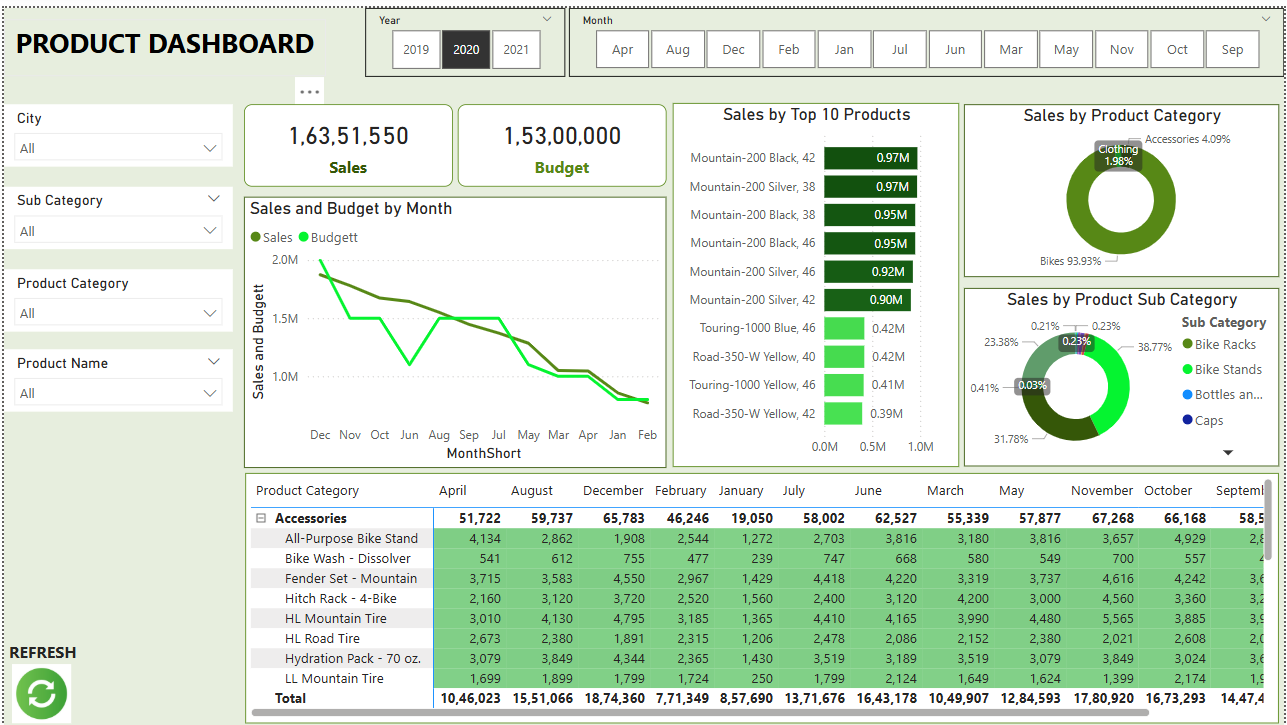

Layout of this report page (visuals, bound fields, positions):
{"tool":"powerbi","page":{"name":"PRODUCTS","canvas":[1280,720],"ordinal":1},"visuals":[{"type":"textbox","box":[0,11.2,321.2,57.5],"z":0},{"type":"slicer","fields":{"Values":["DIM_Calendar.Year"]},"box":[361.2,0,200,68.8],"z":1000},{"type":"slicer","fields":{"Values":["DIM_Calendar.MonthShort"]},"box":[564.9,0,715.4,68.5],"z":2000},{"type":"slicer","fields":{"Values":["DIM_Customers.Customer City"]},"box":[0,96.8,228.7,62.4],"z":3000},{"type":"slicer","fields":{"Values":["DIM_Products.Sub Category"]},"box":[0,178.8,228.7,62.4],"z":4000},{"type":"slicer","fields":{"Values":["DIM_Products.Product Category"]},"box":[0,260.7,228.7,62.4],"z":5000},{"type":"slicer","fields":{"Values":["DIM_Products.Product Name"]},"box":[0,341.4,228.7,62.4],"z":6000},{"type":"donutChart","fields":{"Y":["Metrics.Sales"],"Series":["DIM_Products.Product Category"]},"box":[960,96.2,315,172.5],"z":7000},{"type":"lineChart","title":"Sales and Budget by Month","fields":{"Category":["DIM_Calendar.MonthShort"],"Y":["Metrics.Sales","Metrics.Budgett"]},"box":[240,188.8,422.5,271.2],"z":8000},{"type":"barChart","title":"Sales by Top 10 Products","fields":{"Y":["Metrics.Sales"],"Category":["DIM_Products.Product Name"]},"box":[668.8,95,286.2,363.8],"z":9000},{"type":"image","box":[0,651.2,75,68.8],"z":10000},{"type":"textbox","box":[0,627.5,228.8,32.5],"z":11000},{"type":"card","fields":{"Values":["Metrics.Sales"]},"box":[240,96.2,208.8,82.5],"z":12000},{"type":"card","fields":{"Values":["Metrics.Budgett"]},"box":[453.8,96.2,208.8,82.5],"z":13000},{"type":"donutChart","title":"Sales by Product Sub Category","fields":{"Y":["Metrics.Sales"],"Series":["DIM_Products.Sub Category"]},"box":[960,280,315,178.8],"z":14000},{"type":"pivotTable","fields":{"Rows":["DIM_Products.Product Category","DIM_Products.Product Name"],"Columns":["DIM_Calendar.Month"],"Values":["Metrics.Sales"]},"box":[241.2,465,1033.8,250],"z":15000}]}

Visuals, with their boxes in screenshot pixels (x1, y1, x2, y2), scaled from the page's 1280x720 canvas onto the 1287x725 screenshot:
textbox: [0,11,323,69]
slicer - DIM_Calendar.Year: [363,0,564,69]
slicer - DIM_Calendar.MonthShort: [568,0,1286,69]
slicer - DIM_Customers.Customer City: [0,97,230,160]
slicer - DIM_Products.Sub Category: [0,180,230,243]
slicer - DIM_Products.Product Category: [0,263,230,325]
slicer - DIM_Products.Product Name: [0,344,230,407]
donutChart - Metrics.Sales x DIM_Products.Product Category: [965,97,1282,271]
"Sales and Budget by Month" lineChart: [241,190,666,463]
"Sales by Top 10 Products" barChart: [672,96,960,462]
image: [0,656,75,724]
textbox: [0,632,230,665]
card - Metrics.Sales: [241,97,451,180]
card - Metrics.Budgett: [456,97,666,180]
"Sales by Product Sub Category" donutChart: [965,282,1282,462]
pivotTable - DIM_Products.Product Category x DIM_Products.Product Name: [243,468,1282,720]
